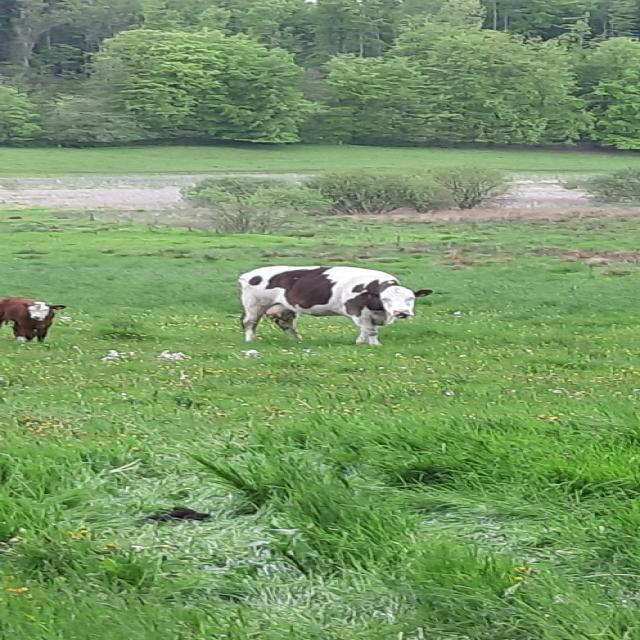cow: (239, 266, 431, 344), (0, 298, 65, 341)
